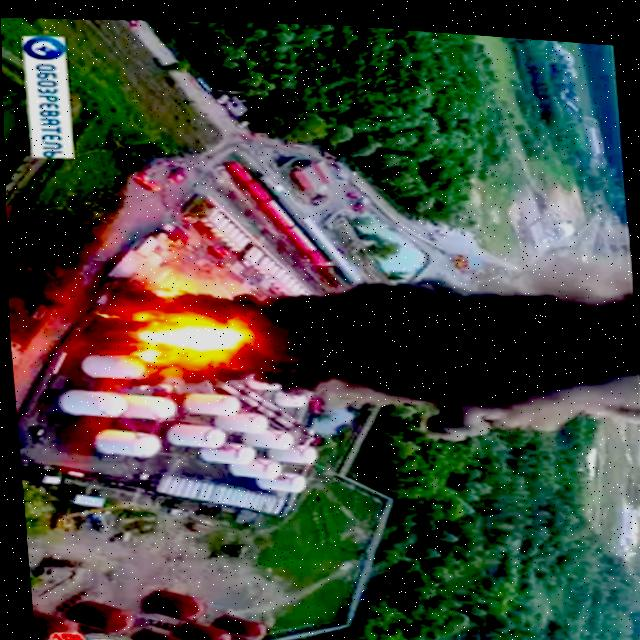Smoke: (188, 241, 640, 458)
